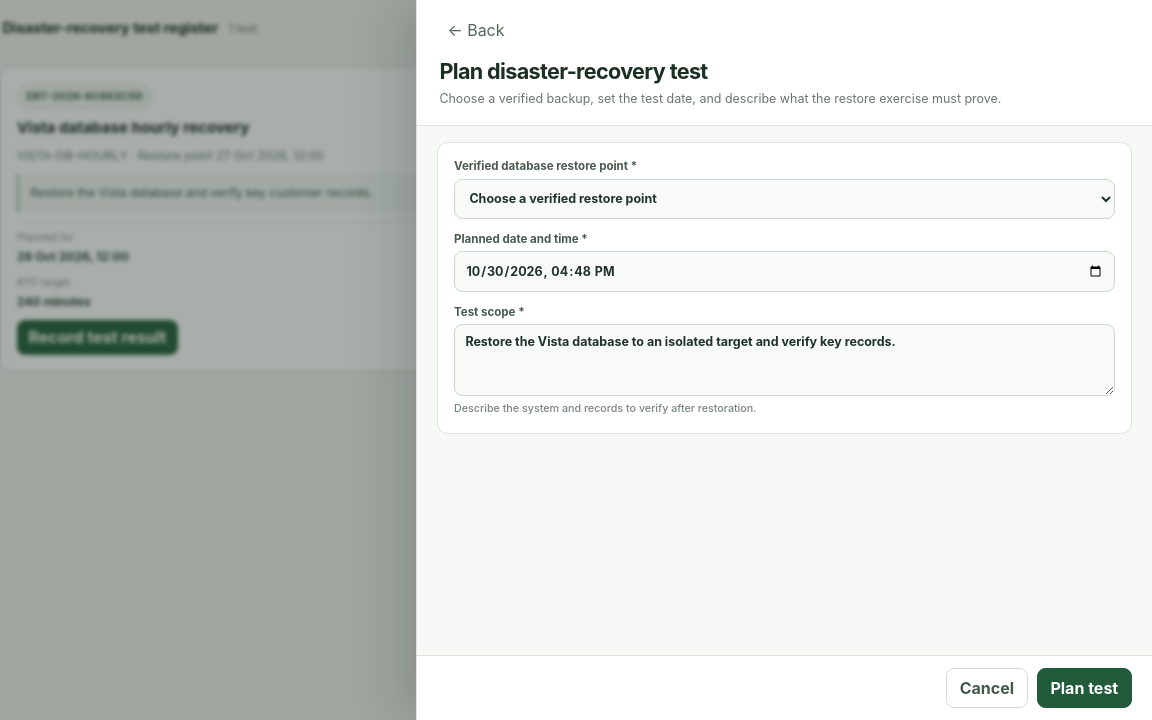
Test case: disaster-recovery test register › plans a test from a verified database restore point
Select "VISTA-DB-HOURLY · Vista database hourly recovery · 27 Oct 2026, 12:00" in the dropdown labelled "Verified database restore point *" at (784,199), box [454, 179, 1115, 219]
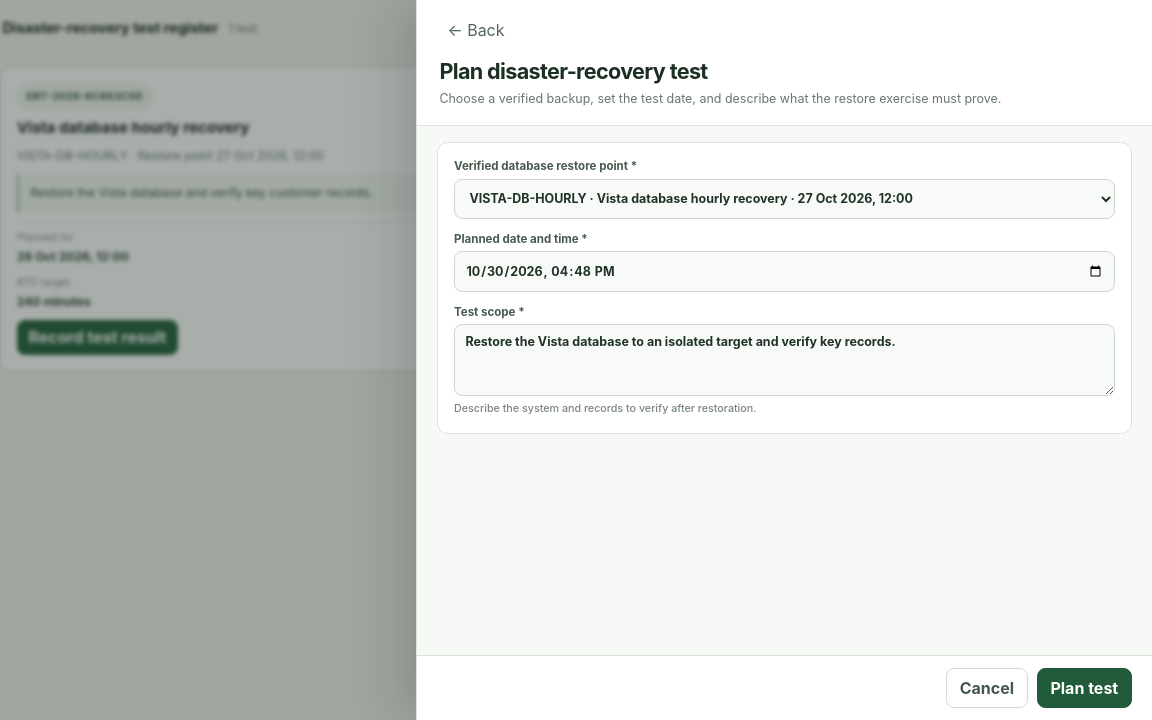
Replace the text in the text box labelled "Test scope" with "Restore the Vista database and verify key customer records." at (784,360), box [454, 324, 1115, 396]
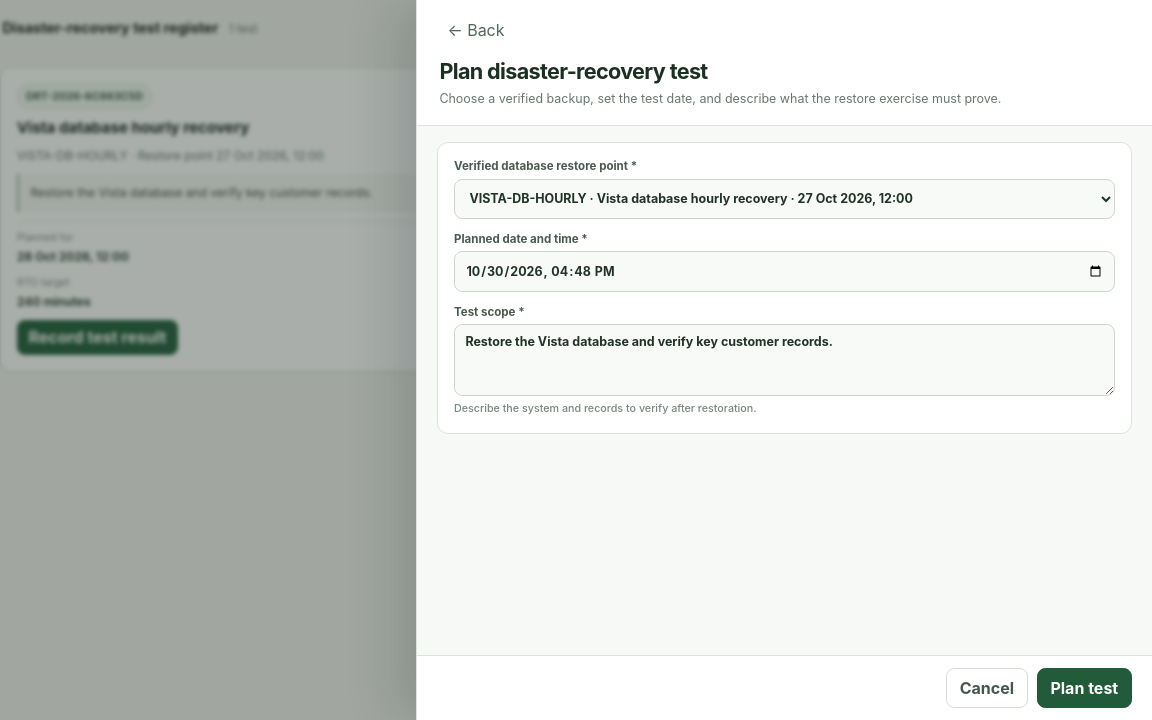
Click the button "Plan test" at (1084,688), box [1037, 668, 1132, 708]
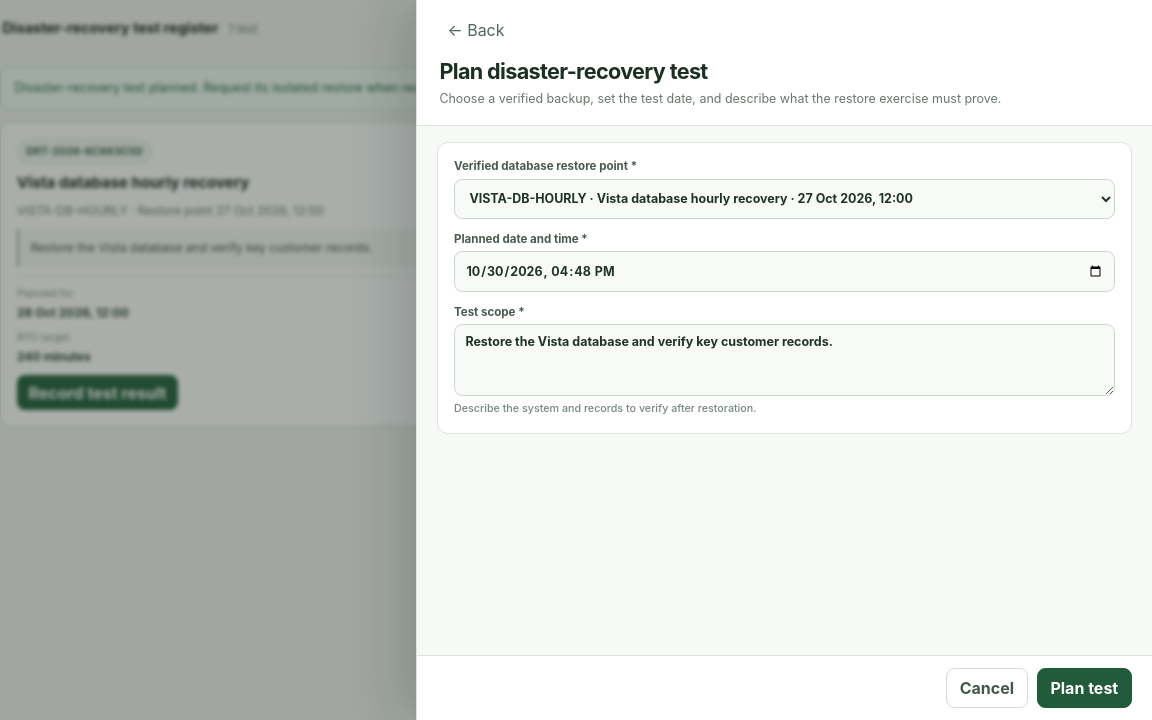
Now the message reads "Disaster-recovery test planned. Request its isolated restore when ready.", box [15, 80, 439, 95]
